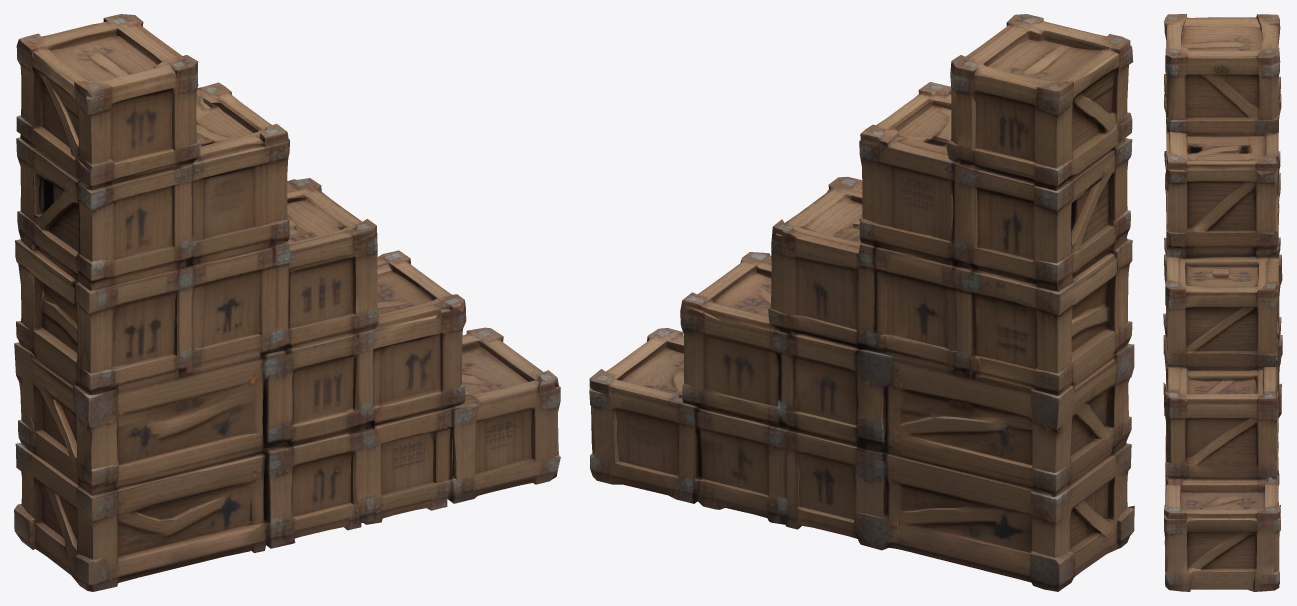
The model's file is staircrates.glb.
3 views of the same model, side by side, from view 1: azimuth 30°, elevation 25°; view 2: azimuth 150°, elevation 25°; view 3: azimuth 270°, elevation 25° (orthographic). The views are drawn at different scales.
Parts seen in each view (by area): view 1: mesh; view 2: mesh; view 3: mesh.
Part boxes in pixels (x1,y1,x2,y2): mesh: [14, 14, 560, 591]; mesh: [589, 14, 1134, 591]; mesh: [1163, 14, 1282, 591].
Bounding box in the file's own units: 0.9889 × 1 × 0.2731.
Materials: 1 (1 with a texture image).
